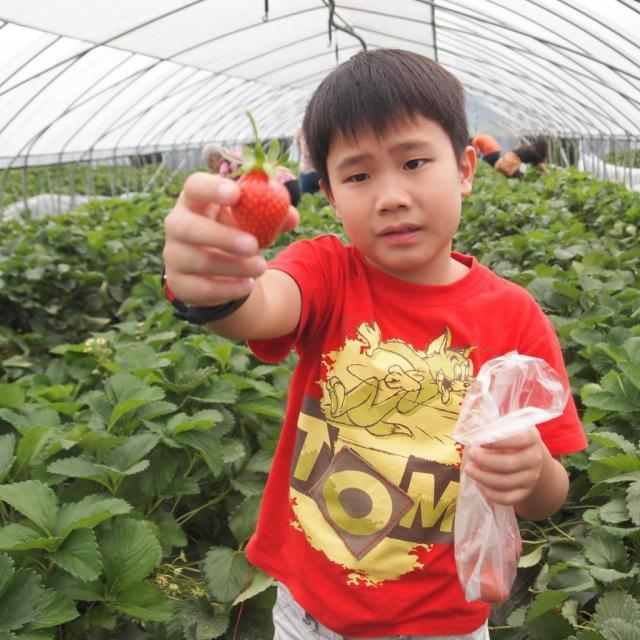Strawberry: (222, 155, 312, 261)
